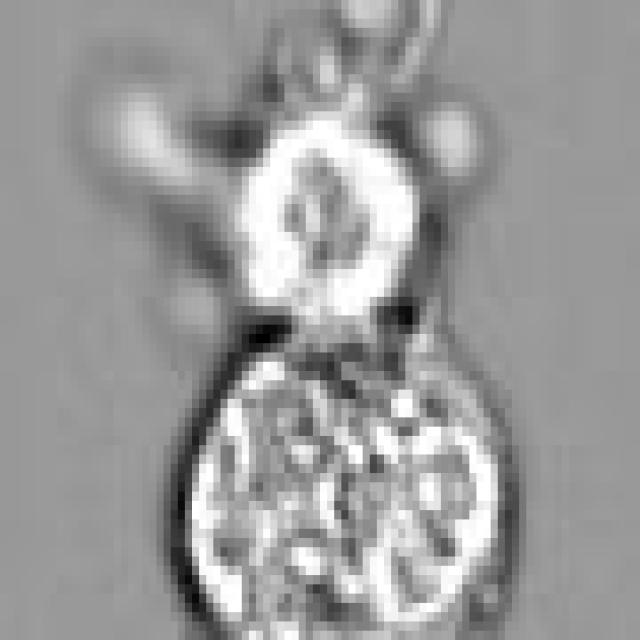Cancer Cell: (178, 315, 505, 640)
WBC: (234, 83, 433, 334)
